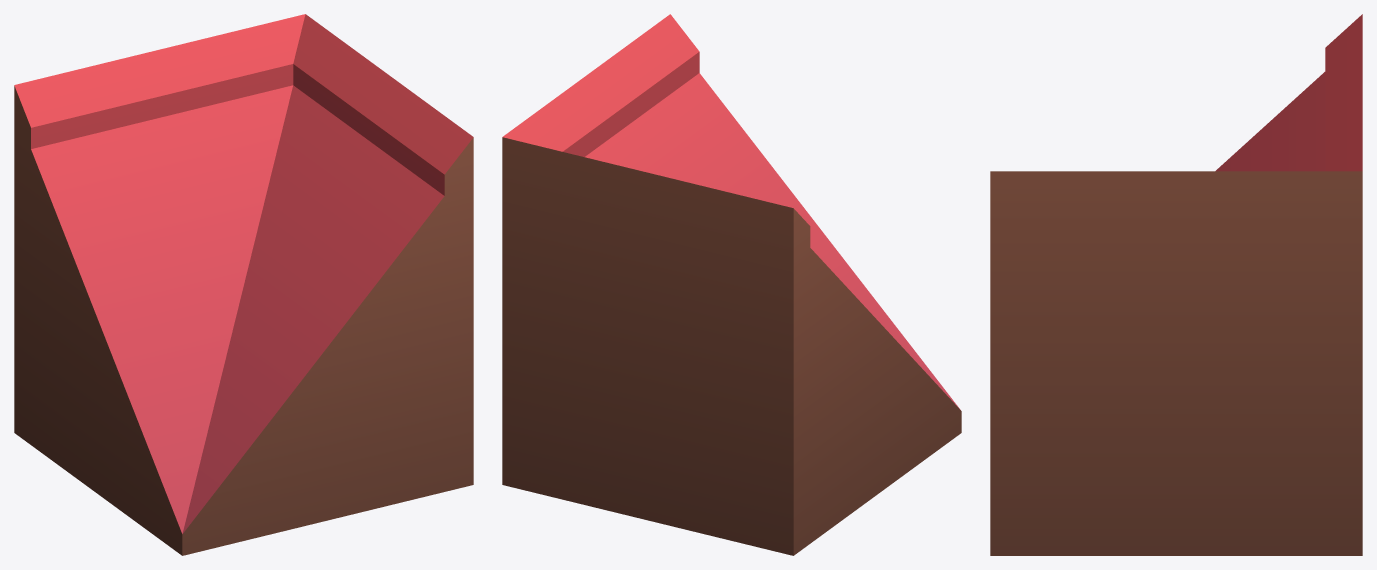
Rendered from roof-high-cornerinner.glb.
3 renders of one model, left to right at view 1: azimuth 30°, elevation 25°; view 2: azimuth 150°, elevation 25°; view 3: azimuth 270°, elevation 25°, orthographic. The views are drawn at different scales.
Parts seen in each view (by area): view 1: roof-high-cornerinner; view 2: roof-high-cornerinner; view 3: roof-high-cornerinner.
Boxes of the visible parts, bbox=[...] form: roof-high-cornerinner: bbox=[14, 14, 473, 555]; roof-high-cornerinner: bbox=[502, 14, 961, 555]; roof-high-cornerinner: bbox=[990, 14, 1362, 555].
Size of the model in its own units: 1 by 1.14 by 1.
Materials: 1 (1 with a texture image).
